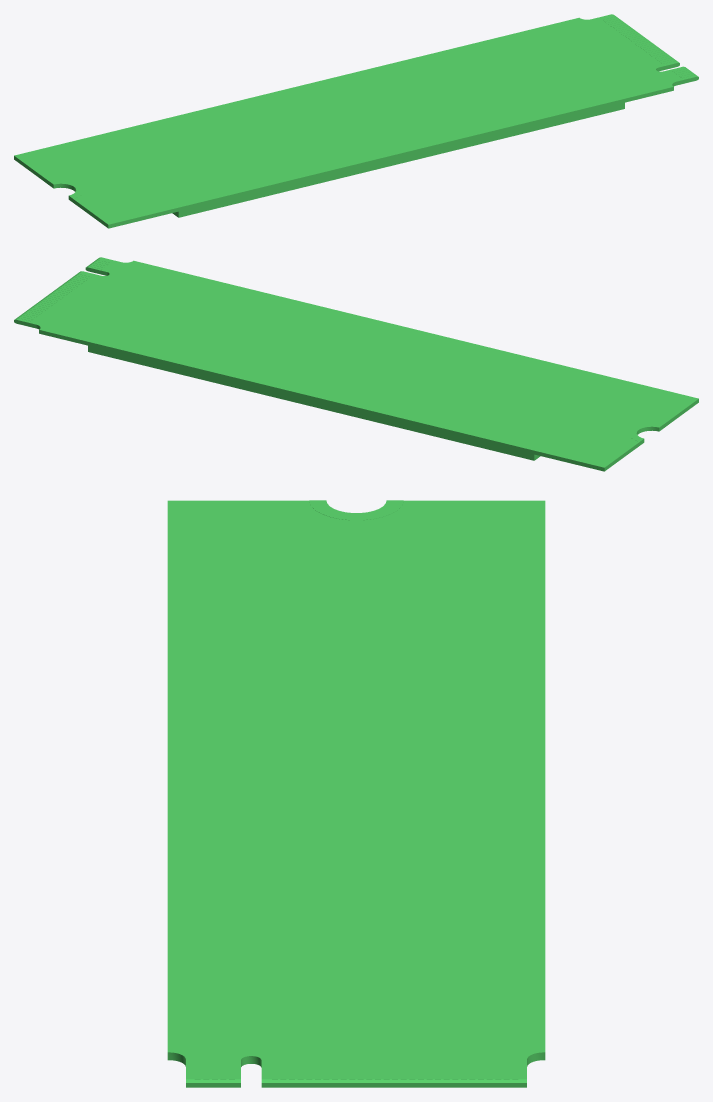
The model's file is ssd.dae.
3 renders of one model, top to bottom at view 1: azimuth 30°, elevation 25°; view 2: azimuth 150°, elevation 25°; view 3: azimuth 270°, elevation 25°, orthographic. The views are drawn at different scales.
Parts seen in each view (by area): view 1: ssd; view 2: ssd; view 3: ssd.
Boxes of the visible parts, x1,y1,x2,y2 form: ssd: [14, 14, 698, 228]; ssd: [14, 257, 698, 471]; ssd: [167, 500, 545, 1087].
Size of the model in its own units: 0.8 by 0.0186 by 0.22.
